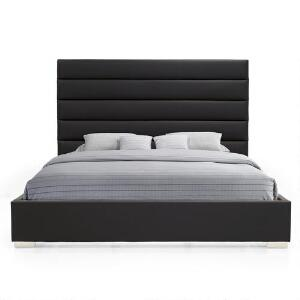bed: (8, 47, 297, 257)
